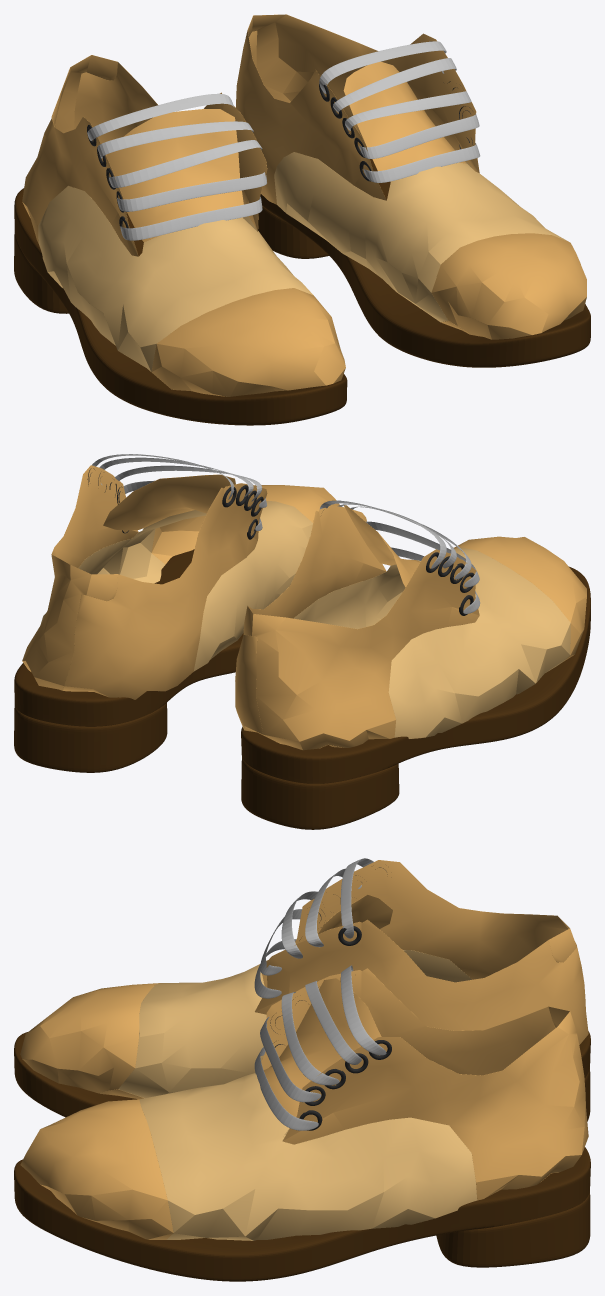
3 views of the same model, one above another, from view 1: azimuth 30°, elevation 25°; view 2: azimuth 150°, elevation 25°; view 3: azimuth 270°, elevation 25° (orthographic). The views are drawn at different scales.
Visible parts, largest first — view 1: ZAPATO1_3.001, ZAPATO1_3, Plane.011, Plane, Plane.009, Plane.006, Plane.010, Plane.008, Plane.007, Plane.002, Plane.003, Plane.004 (+2 smaller); view 2: ZAPATO1_3.001, ZAPATO1_3, Plane.011, Plane, Plane.009, Plane.001, Plane.003, Plane.007; view 3: ZAPATO1_3, ZAPATO1_3.001, Plane, Plane.011, Plane.001, Plane.004, Plane.003, Plane.005, Plane.002, Plane.007, Plane.008, Plane.010.
Boxes of the visible parts, <box> form: ZAPATO1_3.001: <box>22,55,345,396</box>; ZAPATO1_3: <box>236,14,586,339</box>; Plane.011: <box>14,188,347,425</box>; Plane: <box>258,159,590,367</box>; Plane.009: <box>117,172,266,211</box>; Plane.006: <box>120,196,262,240</box>; Plane.010: <box>109,140,262,187</box>; Plane.008: <box>97,121,253,158</box>; Plane.007: <box>87,93,234,140</box>; Plane.002: <box>359,114,479,158</box>; Plane.003: <box>333,58,456,112</box>; Plane.004: <box>319,41,446,93</box>; ZAPATO1_3.001: <box>235,505,586,750</box>; ZAPATO1_3: <box>22,465,339,699</box>; Plane.011: <box>241,566,590,829</box>; Plane: <box>14,549,243,772</box>; Plane.009: <box>366,521,479,587</box>; Plane.001: <box>115,465,262,501</box>; Plane.003: <box>99,457,253,497</box>; Plane.007: <box>320,500,446,568</box>; ZAPATO1_3: <box>20,968,588,1240</box>; ZAPATO1_3.001: <box>20,860,588,1099</box>; Plane: <box>14,1147,590,1281</box>; Plane.011: <box>14,1031,590,1121</box>; Plane.001: <box>281,992,339,1085</box>; Plane.004: <box>340,965,386,1055</box>; Plane.003: <box>305,981,361,1064</box>; Plane.005: <box>254,1047,318,1130</box>; Plane.002: <box>260,1016,321,1102</box>; Plane.007: <box>340,858,373,938</box>; Plane.008: <box>305,868,361,947</box>; Plane.010: <box>281,891,317,958</box>.
Size of the model in its own units: 412 by 209 by 447.
